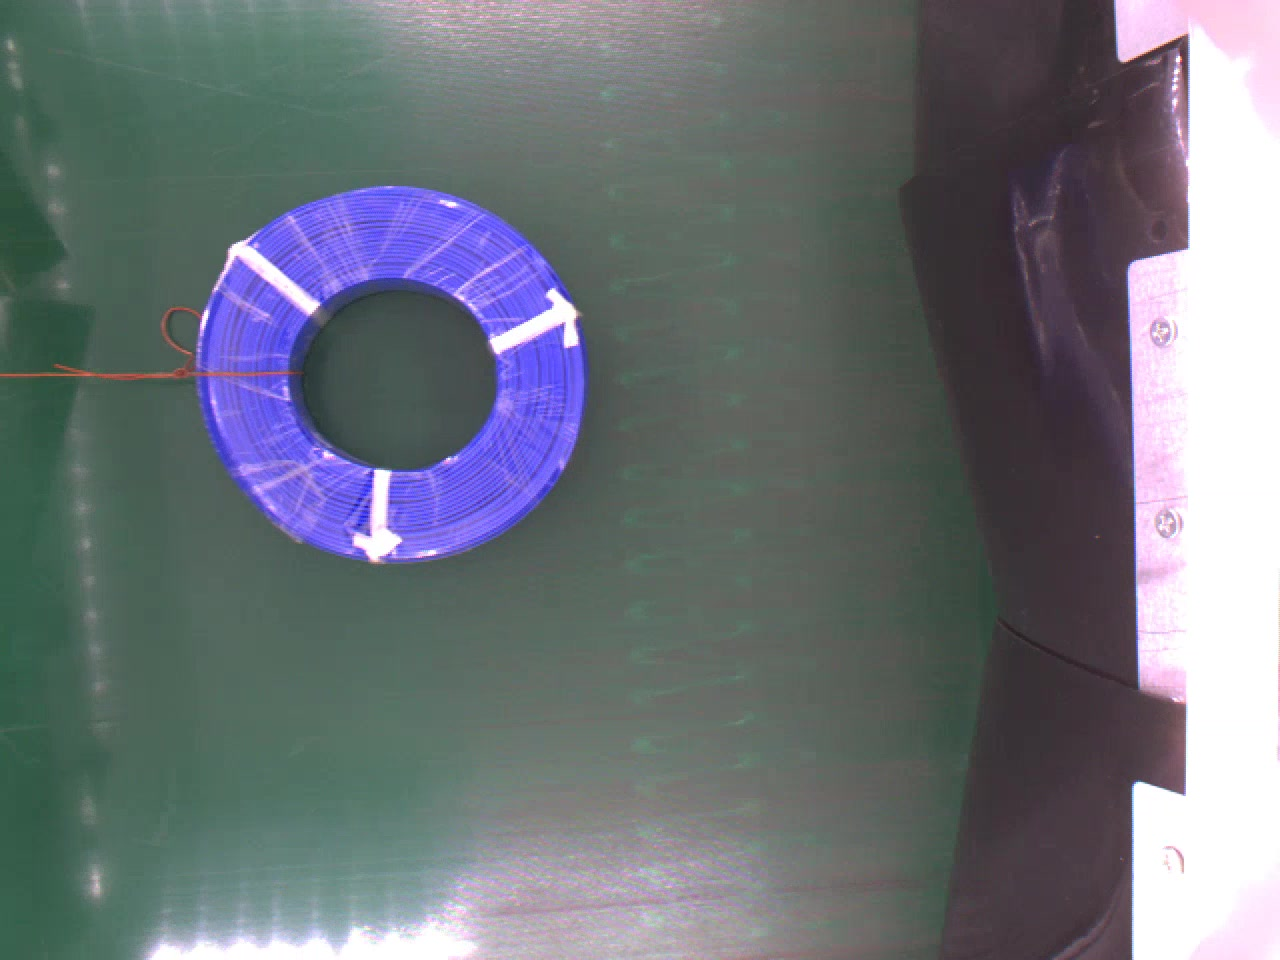blue: (195, 179, 587, 558)
